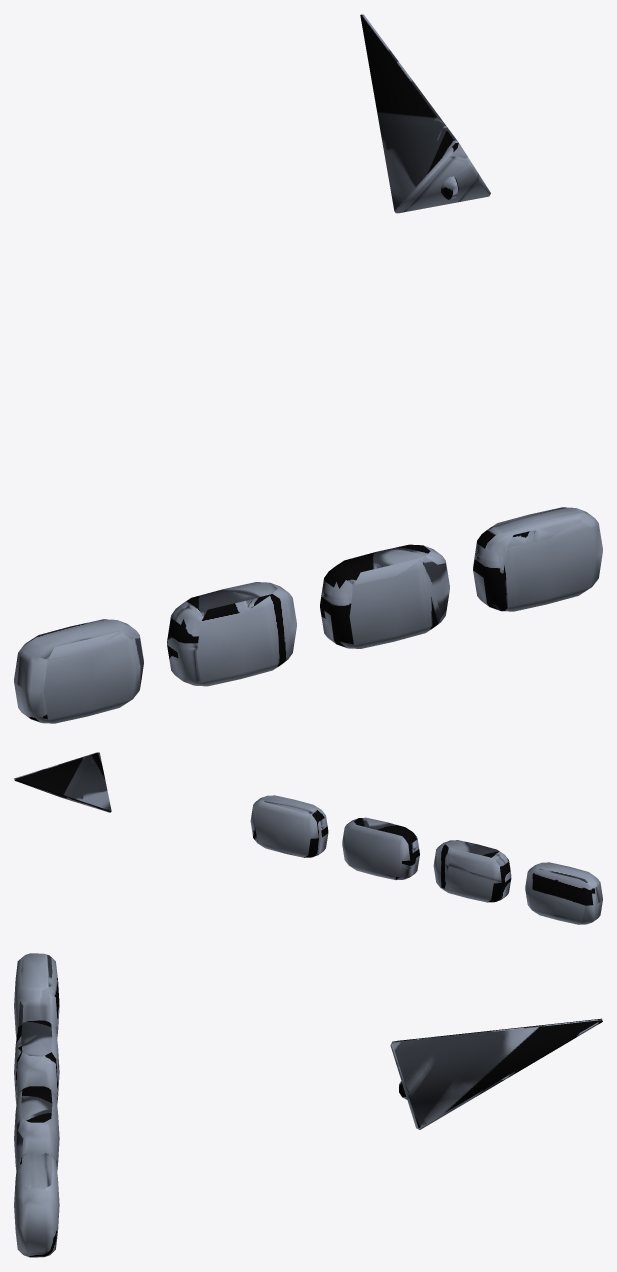
File: Estela_GuanteIzq_Acero.fbx
The picture shows the model from 3 angles, top to bottom: view 1: azimuth 30°, elevation 25°; view 2: azimuth 150°, elevation 25°; view 3: azimuth 270°, elevation 25°; orthographic projection. The views are drawn at different scales.
Parts seen in each view (by area): view 1: Estela_GuanteIzq_Acero; view 2: Estela_GuanteIzq_Acero; view 3: Estela_GuanteIzq_Acero.
Boxes of the visible parts, <box> form: Estela_GuanteIzq_Acero: <box>14,14,602,723</box>; Estela_GuanteIzq_Acero: <box>14,752,602,924</box>; Estela_GuanteIzq_Acero: <box>14,953,602,1257</box>.
Size of the model in its own units: 1.1 by 0.4914 by 0.9223.
